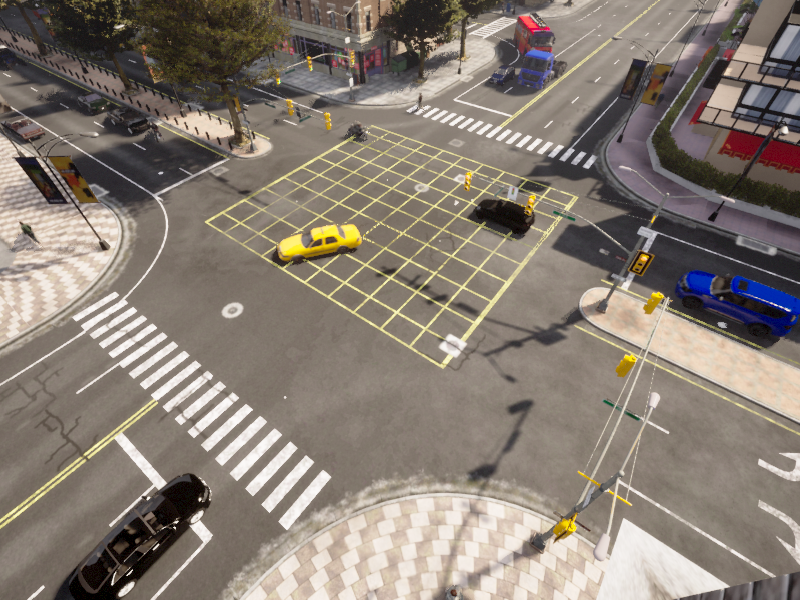vehicle: (269, 215, 359, 268), (467, 186, 537, 237), (100, 99, 157, 138), (144, 118, 171, 145), (342, 115, 368, 141)
